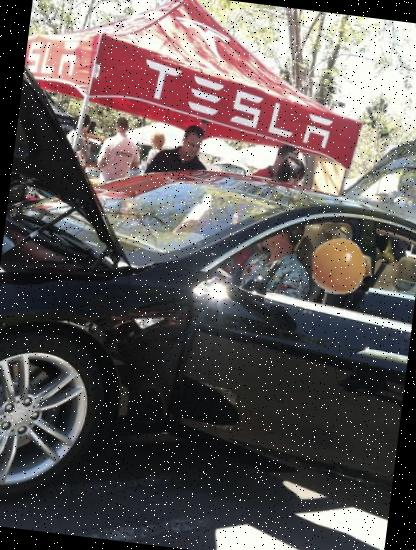Physalis: (308, 233, 376, 301)
